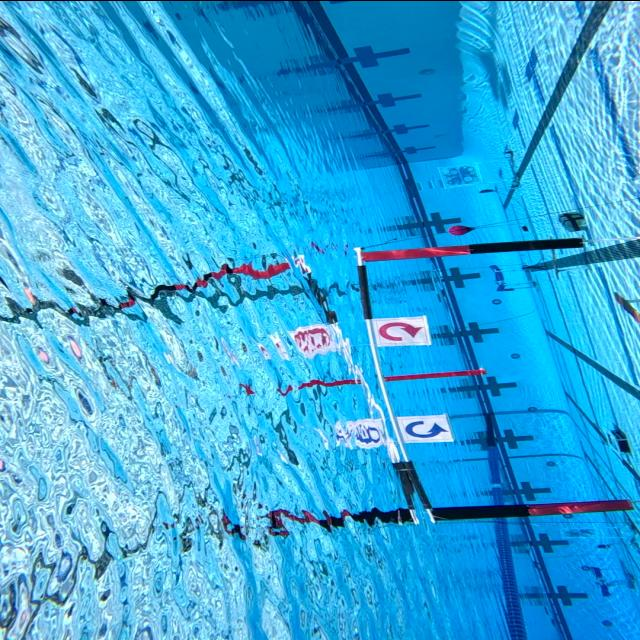blue_side: (395, 409, 455, 447)
red_side: (366, 308, 435, 352)
